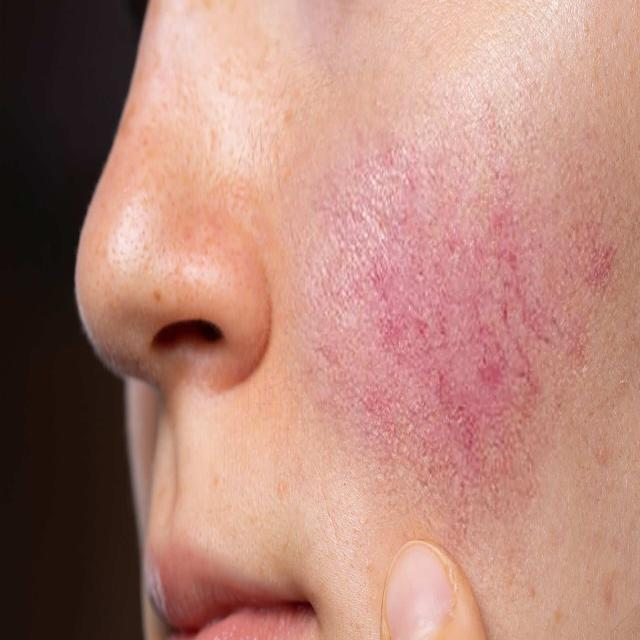Rosacea: (352, 225, 587, 492)
